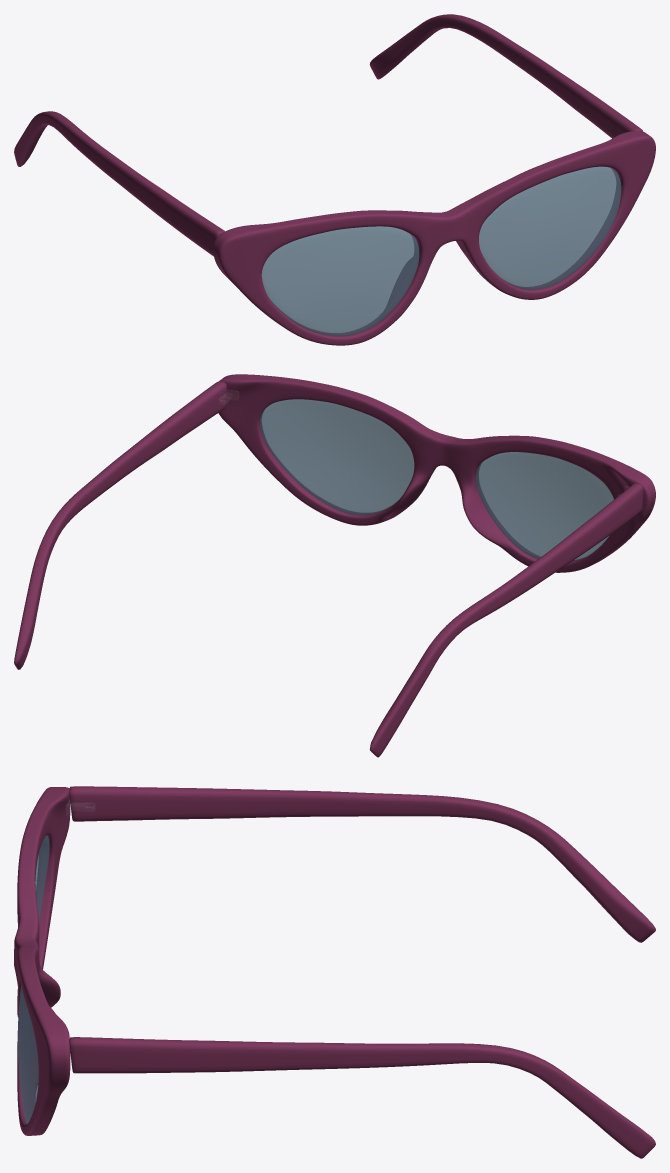
Rendered from val-sun-sbf-candied-berry-crystal_wide.glb.
The picture shows the model from 3 angles, top to bottom: view 1: azimuth 30°, elevation 25°; view 2: azimuth 150°, elevation 25°; view 3: azimuth 270°, elevation 25°; orthographic projection. The views are drawn at different scales.
Parts seen in each view (by area): view 1: lenses, face_front, left_temple, right_temple; view 2: lenses, face_front, right_temple, left_temple; view 3: left_temple, right_temple, face_front, lenses.
Boxes of the visible parts, x1,y1,x2,y2 form: lenses: [261, 166, 621, 336]; face_front: [213, 131, 655, 345]; left_temple: [369, 14, 642, 138]; right_temple: [14, 111, 224, 256]; lenses: [260, 399, 613, 561]; face_front: [218, 374, 655, 572]; right_temple: [369, 483, 643, 757]; left_temple: [14, 381, 226, 669]; left_temple: [69, 1037, 655, 1158]; right_temple: [69, 786, 655, 942]; face_front: [14, 787, 70, 1135]; lenses: [17, 835, 49, 1123].
Size of what is drawn, in the model's own units: 0.1445 by 0.0414 by 0.1493.
